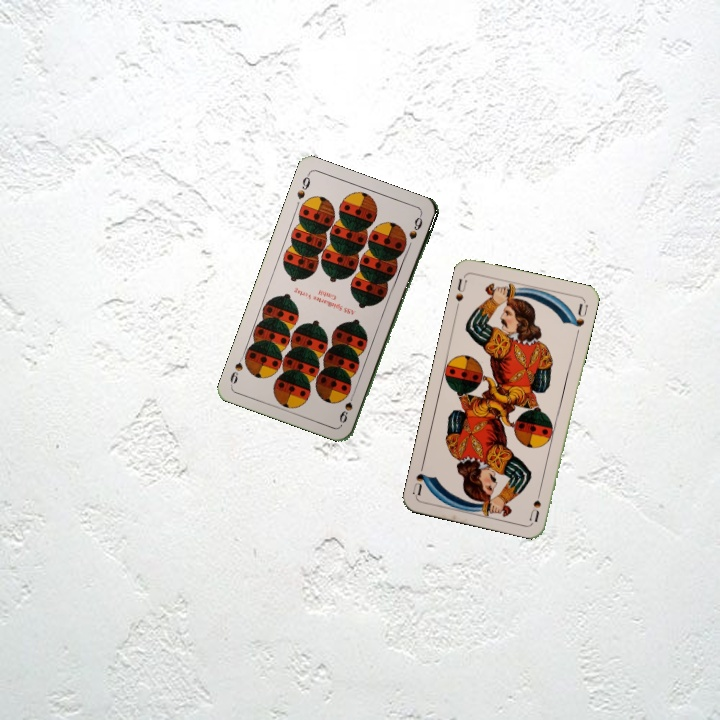S9: (337, 387, 358, 425), (293, 170, 313, 202)
SU: (525, 483, 545, 524), (451, 275, 470, 304)
